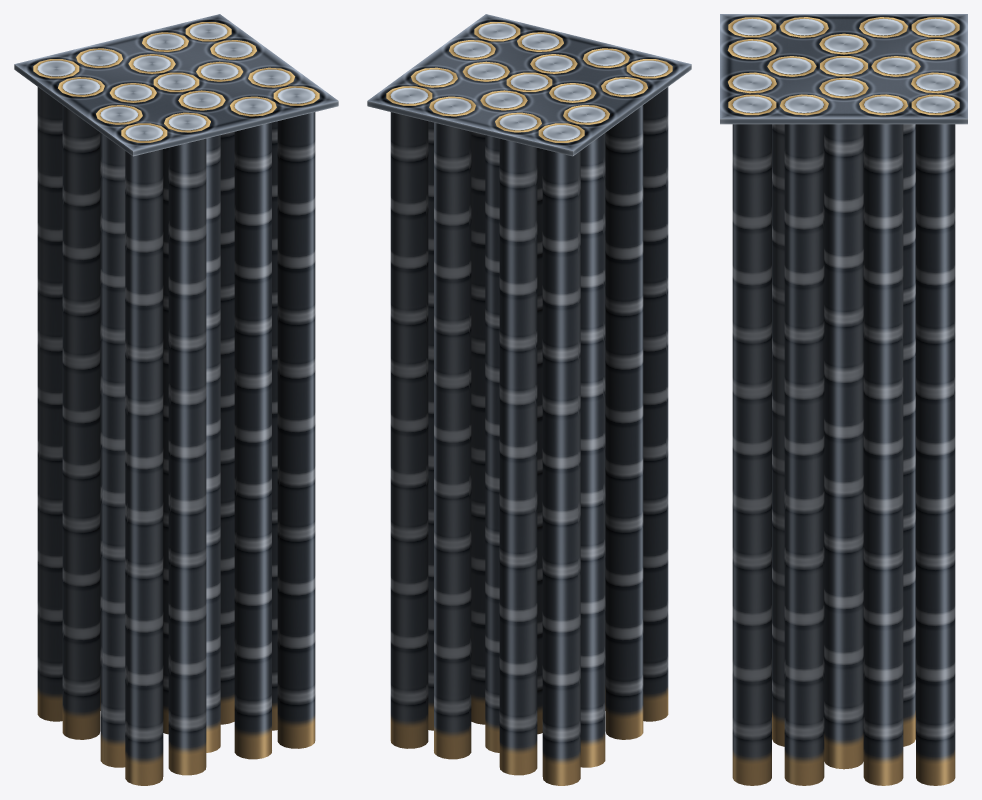
Rendered from suz_rods.obj.
The picture shows the model from 3 angles, left to right: view 1: azimuth 30°, elevation 25°; view 2: azimuth 150°, elevation 25°; view 3: azimuth 270°, elevation 25°; orthographic projection. The views are drawn at different scales.
Visible parts, largest first — view 1: suz_rods; view 2: suz_rods; view 3: suz_rods.
Part boxes in pixels (x1,y1,x2,y2): suz_rods: (14, 14, 338, 785); suz_rods: (367, 14, 691, 785); suz_rods: (720, 14, 967, 785).
Bounding box in the file's own units: 1 × 3 × 1.
